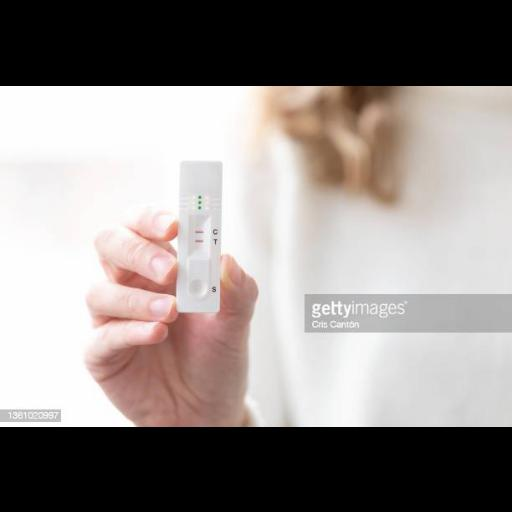Pos: (178, 160, 220, 310)
